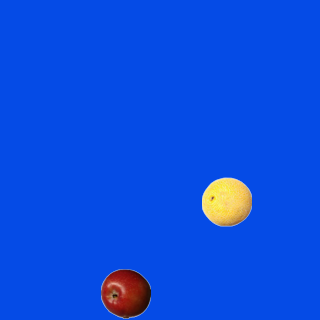Apple Braeburn: (100, 268, 150, 318)
Cantaloupe 1: (201, 176, 251, 226)
